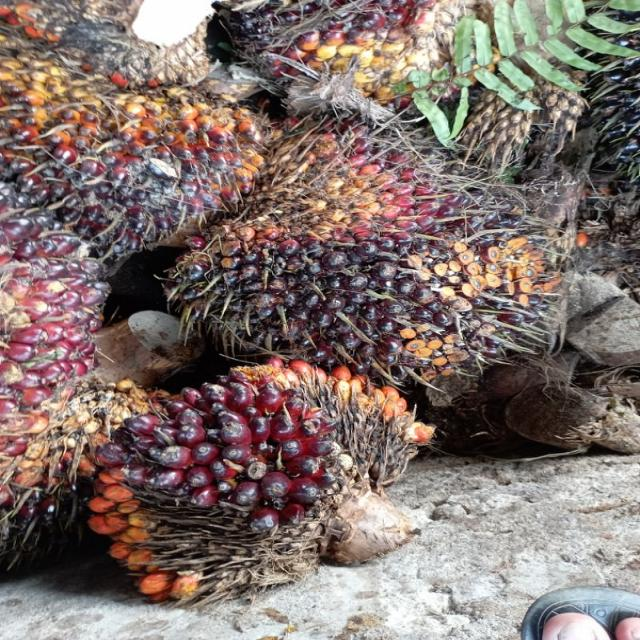fraksi 1: (70, 303, 476, 620)
